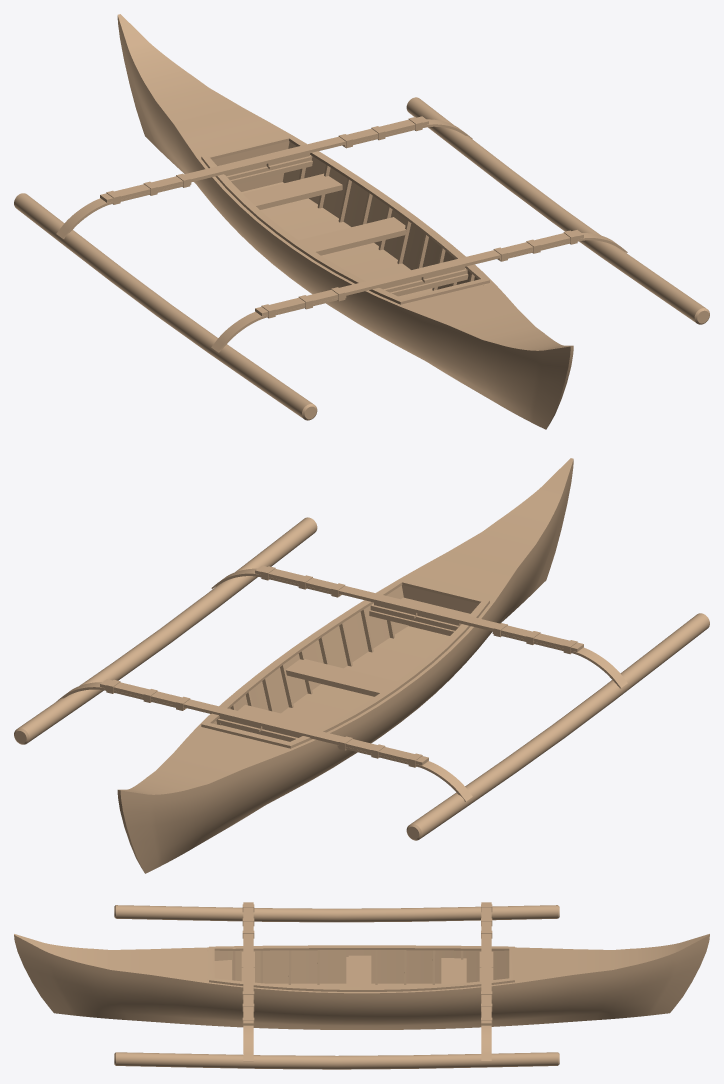
Rendered from SM_small_boat.glb.
3 renders of one model, top to bottom at view 1: azimuth 30°, elevation 25°; view 2: azimuth 150°, elevation 25°; view 3: azimuth 270°, elevation 25°, orthographic. The views are drawn at different scales.
Visible parts, largest first — view 1: SM_small_boat; view 2: SM_small_boat; view 3: SM_small_boat.
Part boxes in pixels (x1,y1,x2,y2): SM_small_boat: (14,14,709,429); SM_small_boat: (14,458,709,873); SM_small_boat: (14,902,709,1069).
Bounding box in the file's own units: 4.52 × 1.29 × 8.66.
